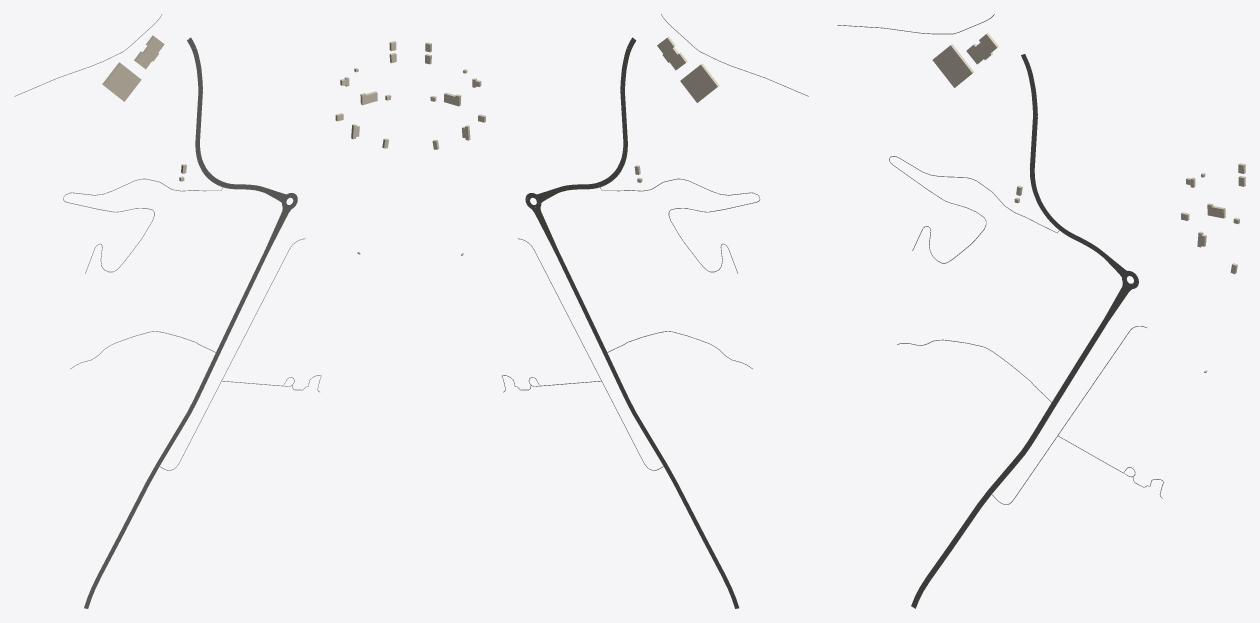
Rendered from historic-palestine-12_20_3539_3145.glb.
The picture shows the model from 3 angles, left to right: view 1: azimuth 30°, elevation 25°; view 2: azimuth 150°, elevation 25°; view 3: azimuth 330°, elevation 25°; orthographic projection. The views are drawn at different scales.
Visible parts, largest first — view 1: Road דרך ים המלח.002, Building_.008; view 2: Road דרך ים המלח.002, Building_.008; view 3: Road דרך ים המלח.002, Building_.008.
Boxes of the visible parts, x1,y1,x2,y2 form: Road דרך ים המלח.002: (84, 249, 268, 608); Building_.008: (102, 62, 141, 101); Road דרך ים המלח.002: (554, 250, 739, 608); Building_.008: (680, 63, 719, 102); Road דרך ים המלח.002: (911, 318, 1107, 608); Building_.008: (932, 44, 973, 87).
Size of the model in its own units: 995 by 1435 by 8.7.
